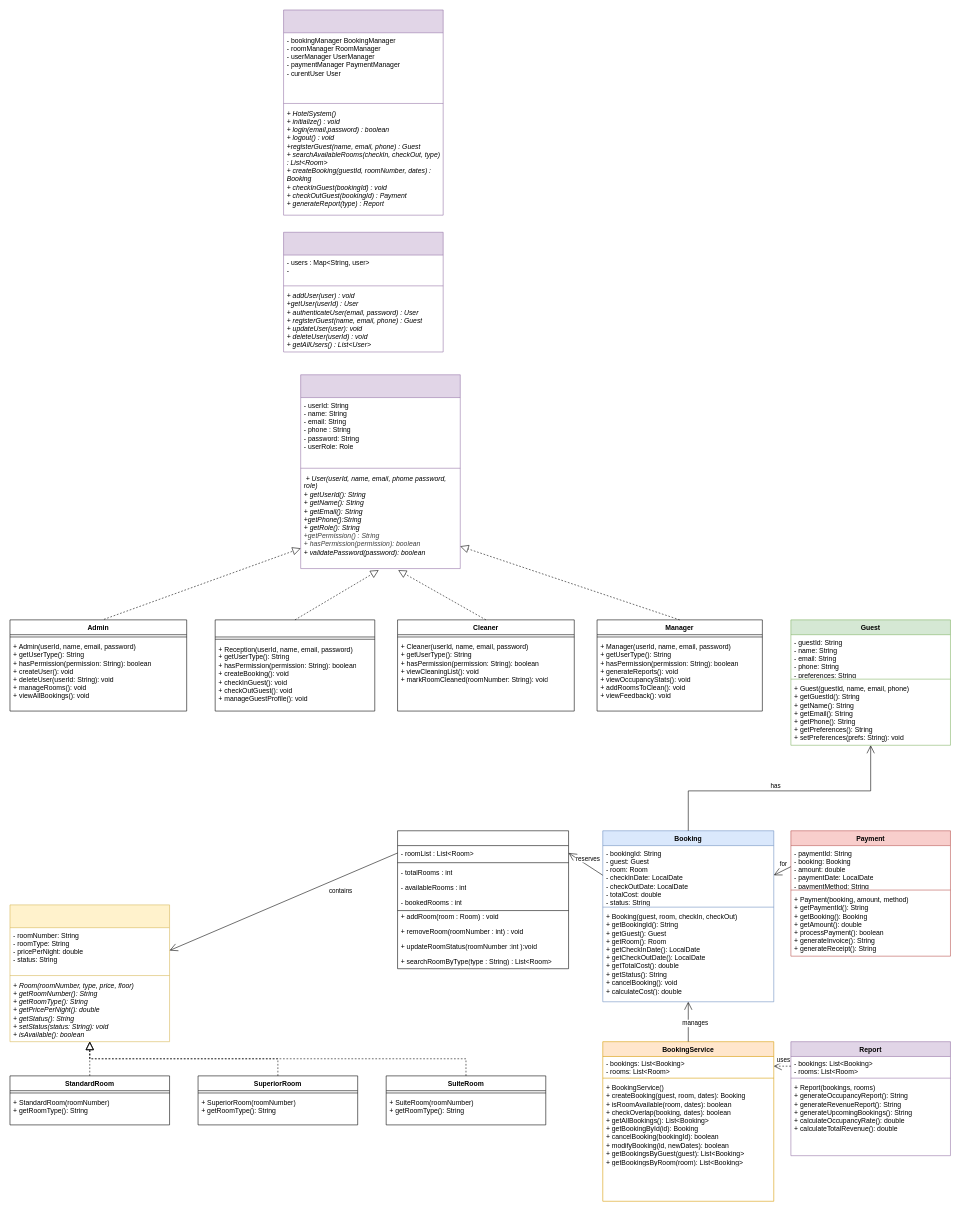
The diagram is 960 pixels wide and 1213 high, and some of its shapes have lost their labels. Each missing label, with the box of its shape:
<<abstract>> Room: (9, 904, 170, 1042)
<<abstract>> User: (300, 374, 460, 569)
Main Hotel System: (283, 9, 443, 215)
ReceptionStaff: (215, 619, 375, 711)
RoomInventory: (397, 830, 569, 969)
UserManager: (283, 232, 443, 352)
